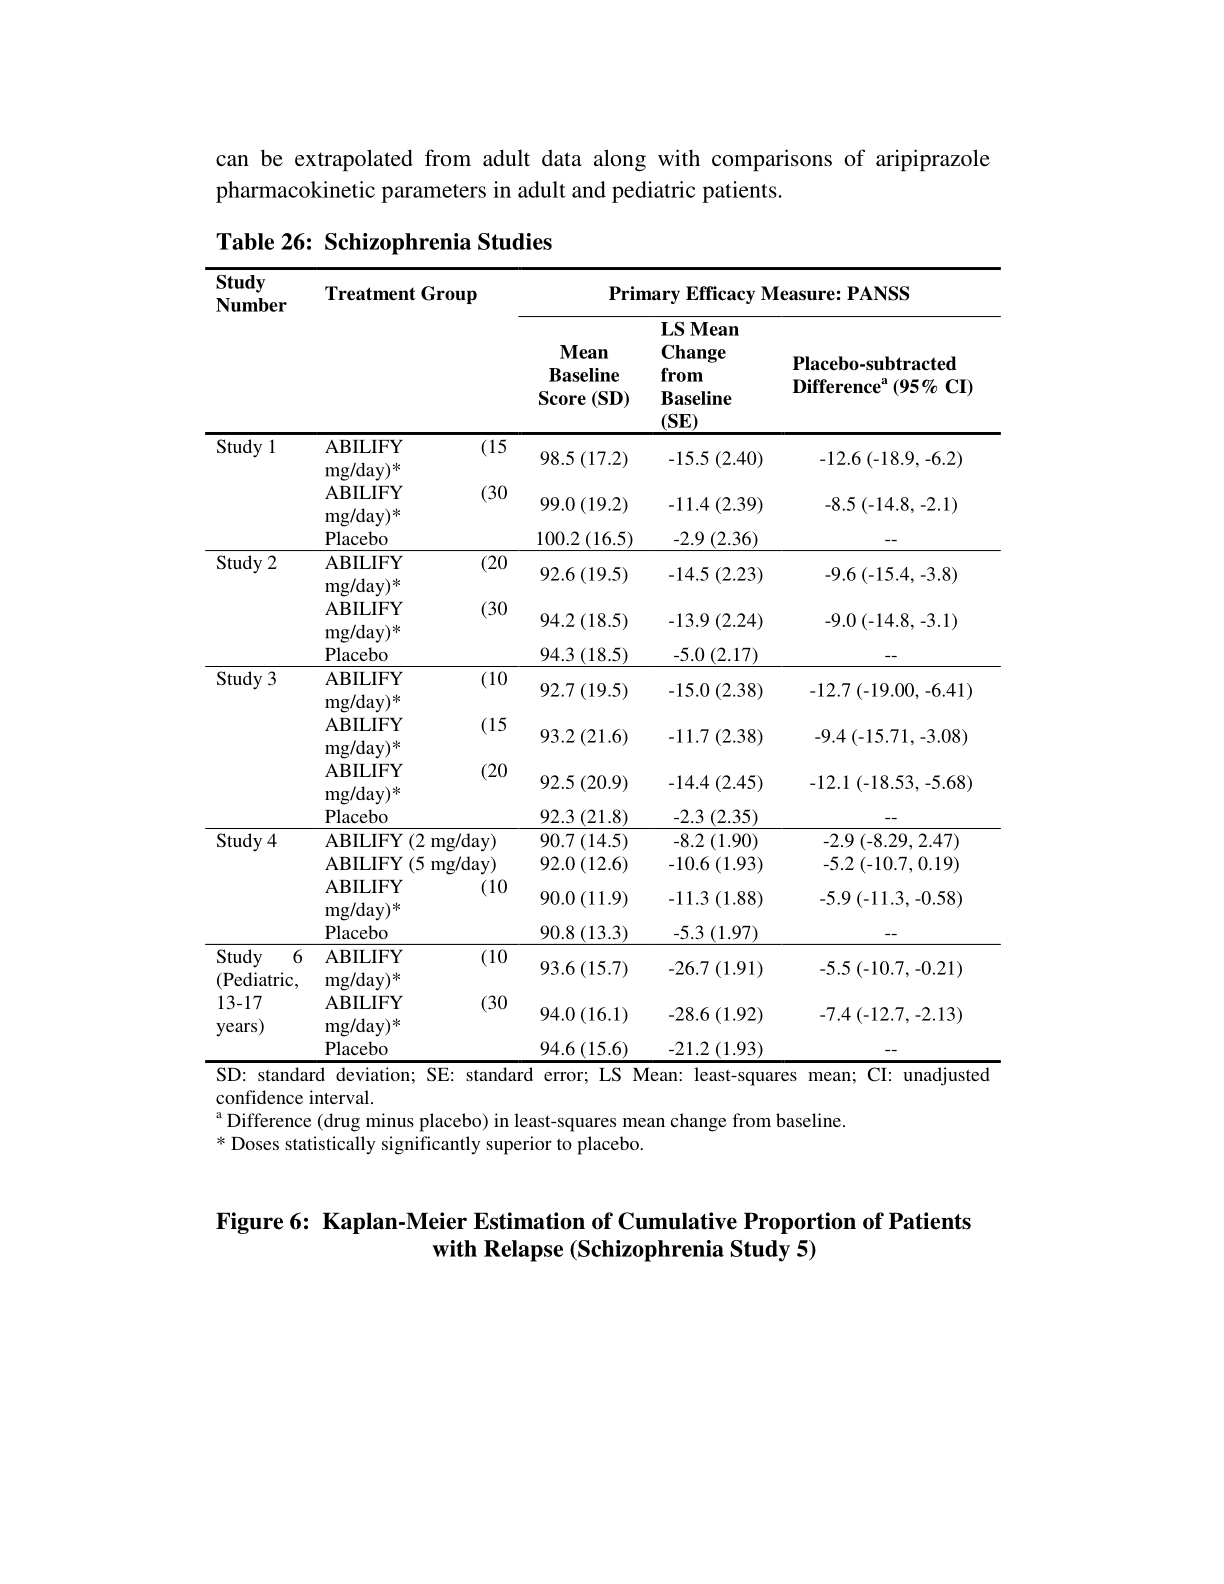partial_lined_merged_cells: (203, 266, 1002, 1065)
